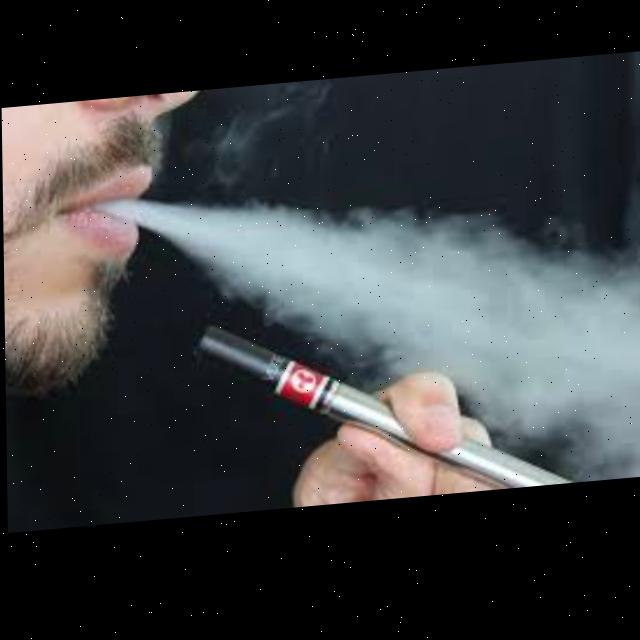vape: (190, 303, 574, 520)
